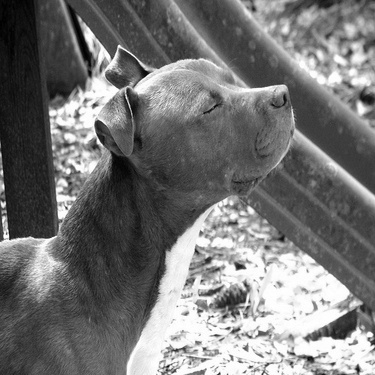dog: (1, 37, 298, 372)
